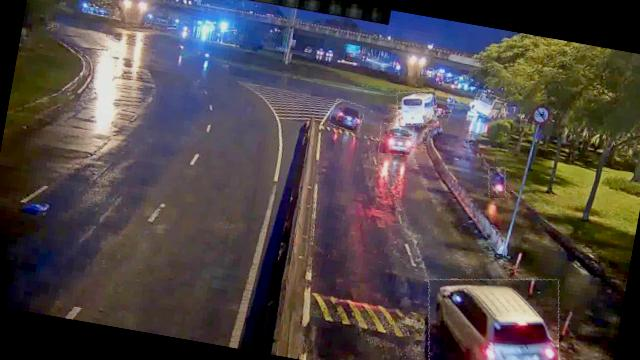Bike: (485, 166, 509, 200)
Bus: (394, 86, 441, 130), (470, 90, 505, 120)
Car: (416, 262, 572, 360), (378, 121, 416, 156), (330, 98, 366, 132)
